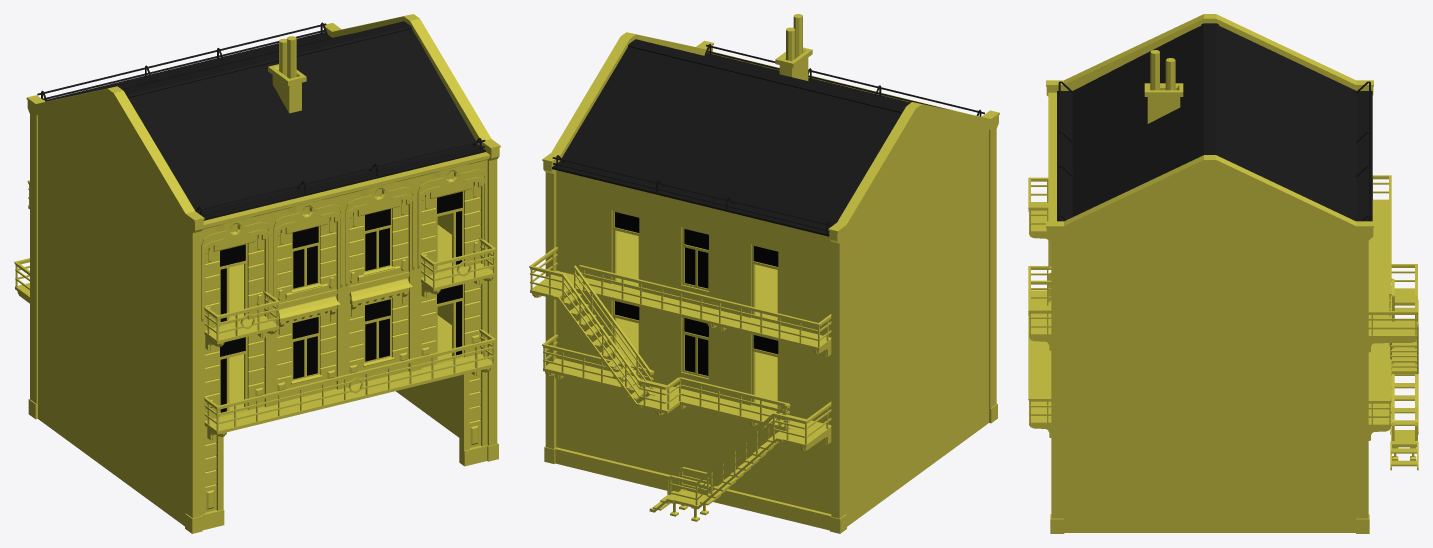
Rendered from SM_eighth_house_3.fbx.
3 views of the same model, side by side, from view 1: azimuth 30°, elevation 25°; view 2: azimuth 150°, elevation 25°; view 3: azimuth 270°, elevation 25° (orthographic). The views are drawn at different scales.
Visible parts, largest first — view 1: Cylinder_18; view 2: Cylinder_18; view 3: Cylinder_18.
Boxes of the visible parts, left/top/right/bottom form: Cylinder_18: left=14, top=14, right=500, bottom=533; Cylinder_18: left=529, top=14, right=999, bottom=533; Cylinder_18: left=1028, top=14, right=1418, bottom=533.
Bounding box in the file's own units: 1064 × 1390 × 1201.
